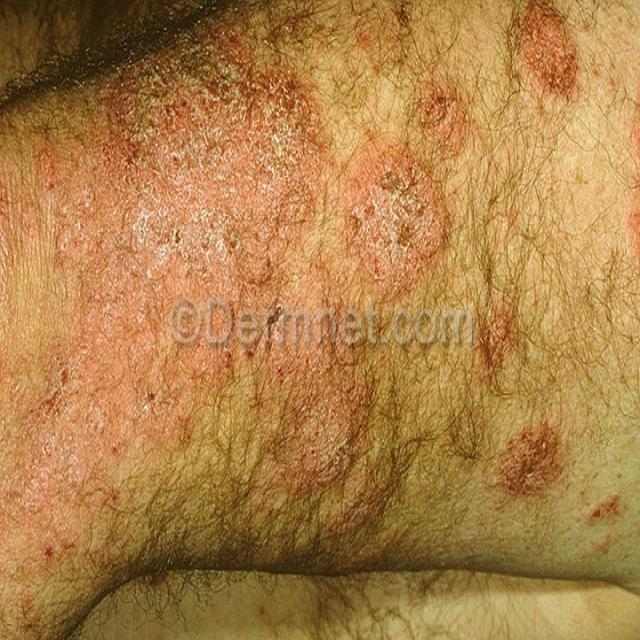Eczema: (22, 0, 574, 574)
